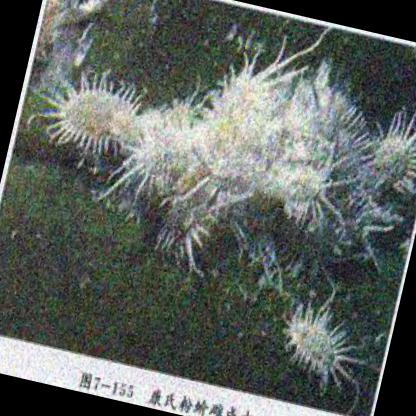mealy bug: (102, 118, 198, 210), (201, 73, 288, 174), (37, 87, 139, 152), (283, 306, 353, 393)
